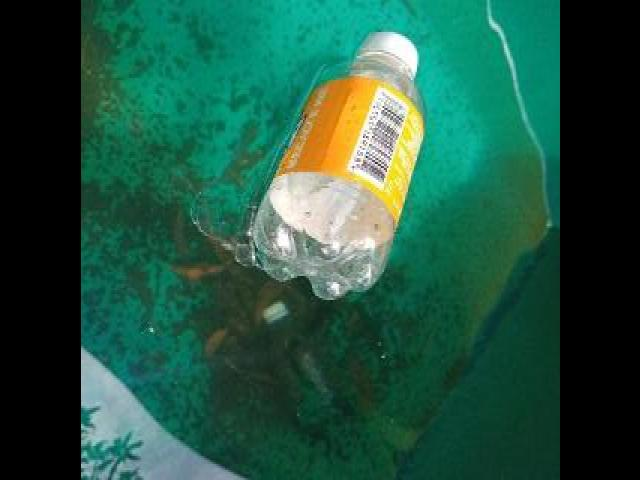Bottle: (242, 19, 428, 311)
